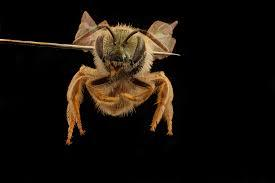Seladonia: (42, 10, 196, 143)
